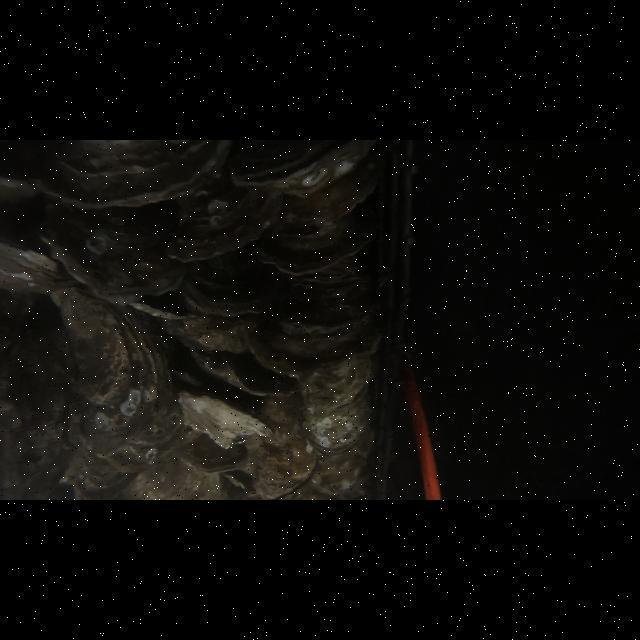Oyster-Closed: (51, 286, 175, 476), (40, 205, 186, 308), (19, 140, 232, 208), (161, 171, 283, 261), (243, 316, 383, 376), (275, 158, 381, 228), (132, 298, 246, 354), (177, 391, 277, 447), (117, 448, 220, 500), (258, 228, 379, 272), (180, 258, 268, 316), (0, 238, 76, 305), (312, 426, 374, 500), (303, 394, 372, 458), (185, 346, 268, 399), (251, 438, 319, 499), (303, 357, 373, 411), (180, 430, 250, 474), (274, 269, 371, 299)
Oyster-Open: (231, 140, 377, 198)
